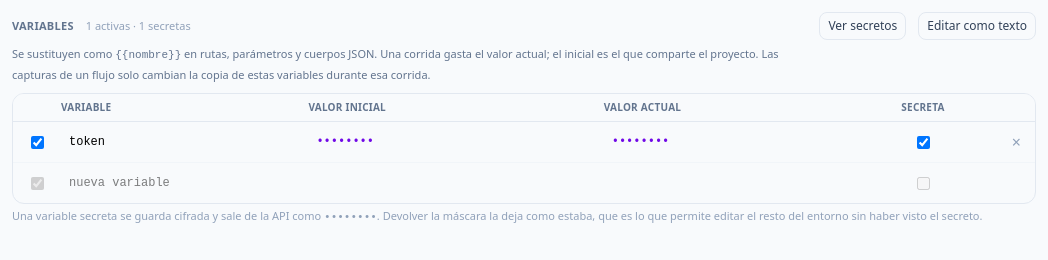
Test: ver los secretos › un fallo que no es un Error se dice con un mensaje genérico
This screenshot has width=1048, height=260.
Click the button "Ver secretos" at (863, 26), box [819,12,906,40]
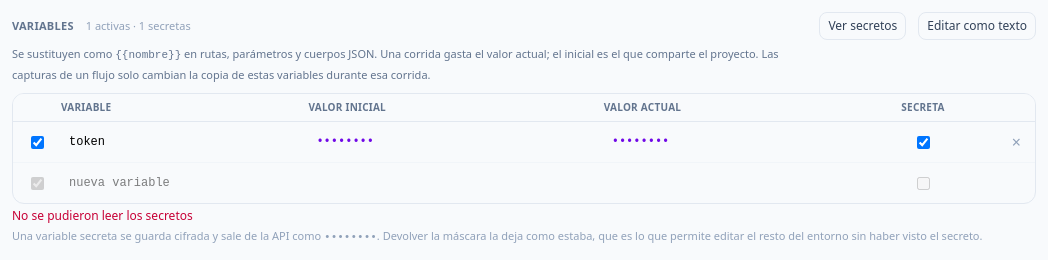
Check: the text "No se pudieron leer los secretos" is shown, box [12,207,193,224]
